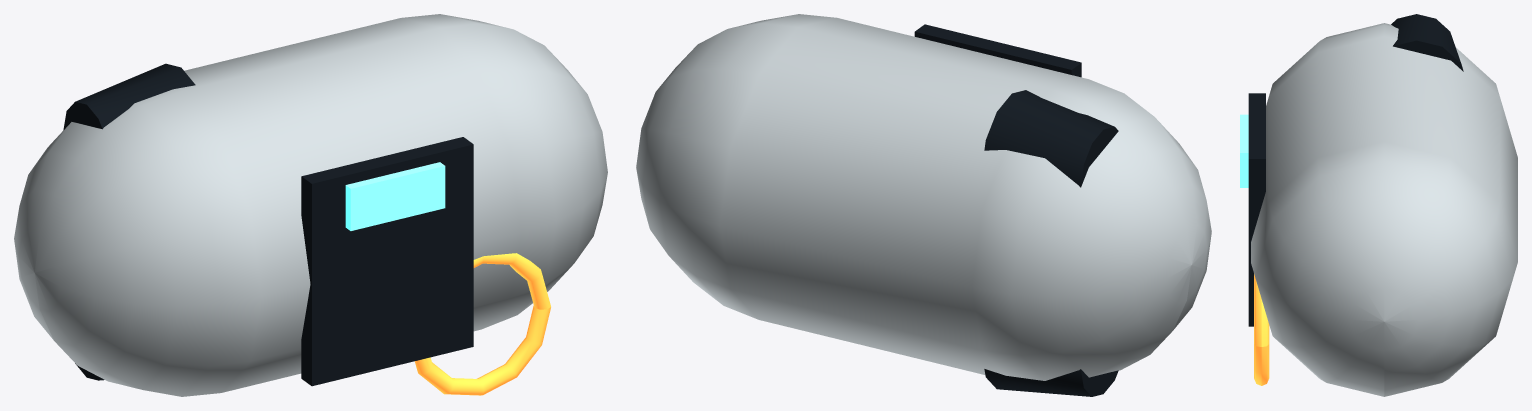
Rendered from SM_EscapePod.glb.
The picture shows the model from 3 angles, left to right: view 1: azimuth 30°, elevation 25°; view 2: azimuth 150°, elevation 25°; view 3: azimuth 270°, elevation 25°; orthographic projection. The views are drawn at different scales.
Parts seen in each view (by area): view 1: EscapePod_Hull, EscapePod_Door, EscapePod_DoorLight, EscapePod_EnergySocket, EscapePod_EngineR; view 2: EscapePod_Hull, EscapePod_EngineR, EscapePod_Door, EscapePod_EngineL; view 3: EscapePod_Hull, EscapePod_Door, EscapePod_EngineR, EscapePod_EnergySocket, EscapePod_DoorLight.
Boxes of the visible parts, x1,y1,x2,y2 form: EscapePod_Hull: (14,14,607,396); EscapePod_Door: (301,137,473,386); EscapePod_DoorLight: (345,162,445,230); EscapePod_EnergySocket: (415,253,550,395); EscapePod_EngineR: (63,63,195,130); EscapePod_Hull: (636,14,1211,380); EscapePod_EngineR: (984,90,1118,187); EscapePod_Door: (914,24,1081,77); EscapePod_EngineL: (984,369,1118,396); EscapePod_Hull: (1251,23,1517,396); EscapePod_Door: (1248,93,1265,326); EscapePod_EngineR: (1391,14,1463,71); EscapePod_EnergySocket: (1254,274,1269,385); EscapePod_DoorLight: (1240,114,1248,187).
Size of the model in its own units: 2.46 by 1.31 by 1.29.
